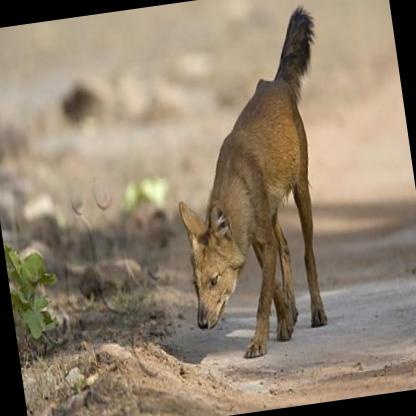dhole: (149, 0, 359, 369)
